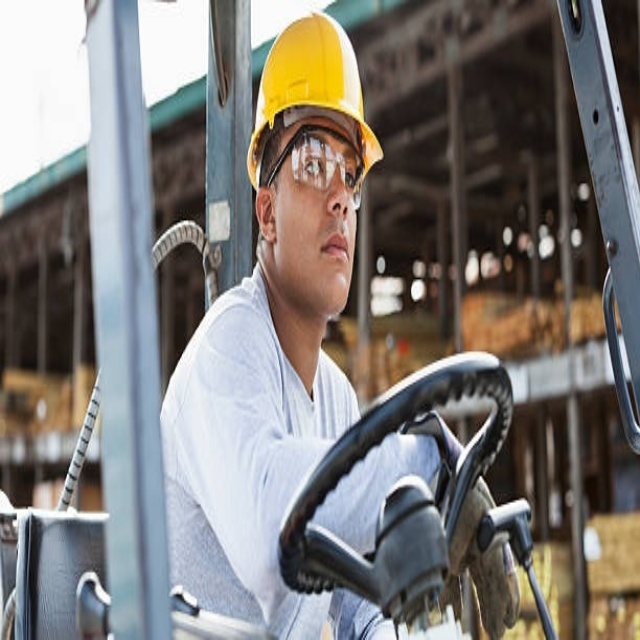Gafas: (269, 127, 366, 210)
Sin_mascara: (311, 221, 356, 293)
